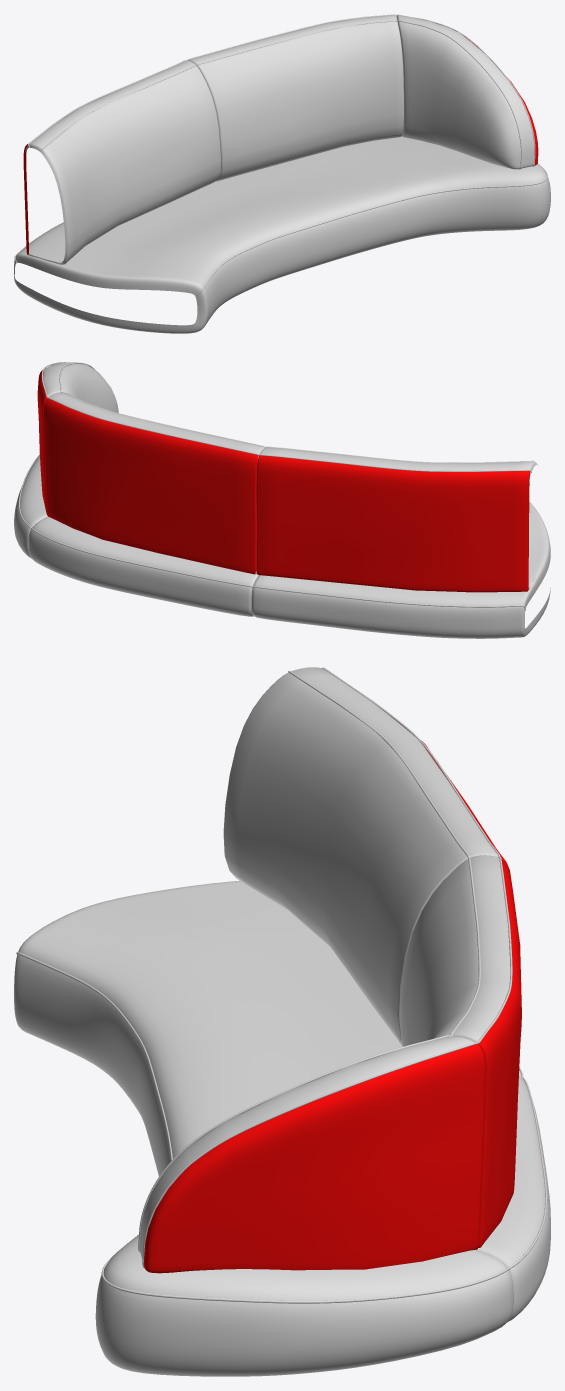
File: levante_l_male_mirror.gltf
The picture shows the model from 3 angles, top to bottom: view 1: azimuth 30°, elevation 25°; view 2: azimuth 150°, elevation 25°; view 3: azimuth 270°, elevation 25°; orthographic projection. The views are drawn at different scales.
Visible parts, largest first — view 1: levante_l_male001; view 2: levante_l_male001; view 3: levante_l_male001.
Part boxes in pixels (x1,y1,x2,y2): levante_l_male001: (14,14,550,333); levante_l_male001: (14,362,550,638); levante_l_male001: (14,667,550,1376).
Size of the model in its own units: 2.21 by 0.6903 by 1.15.
